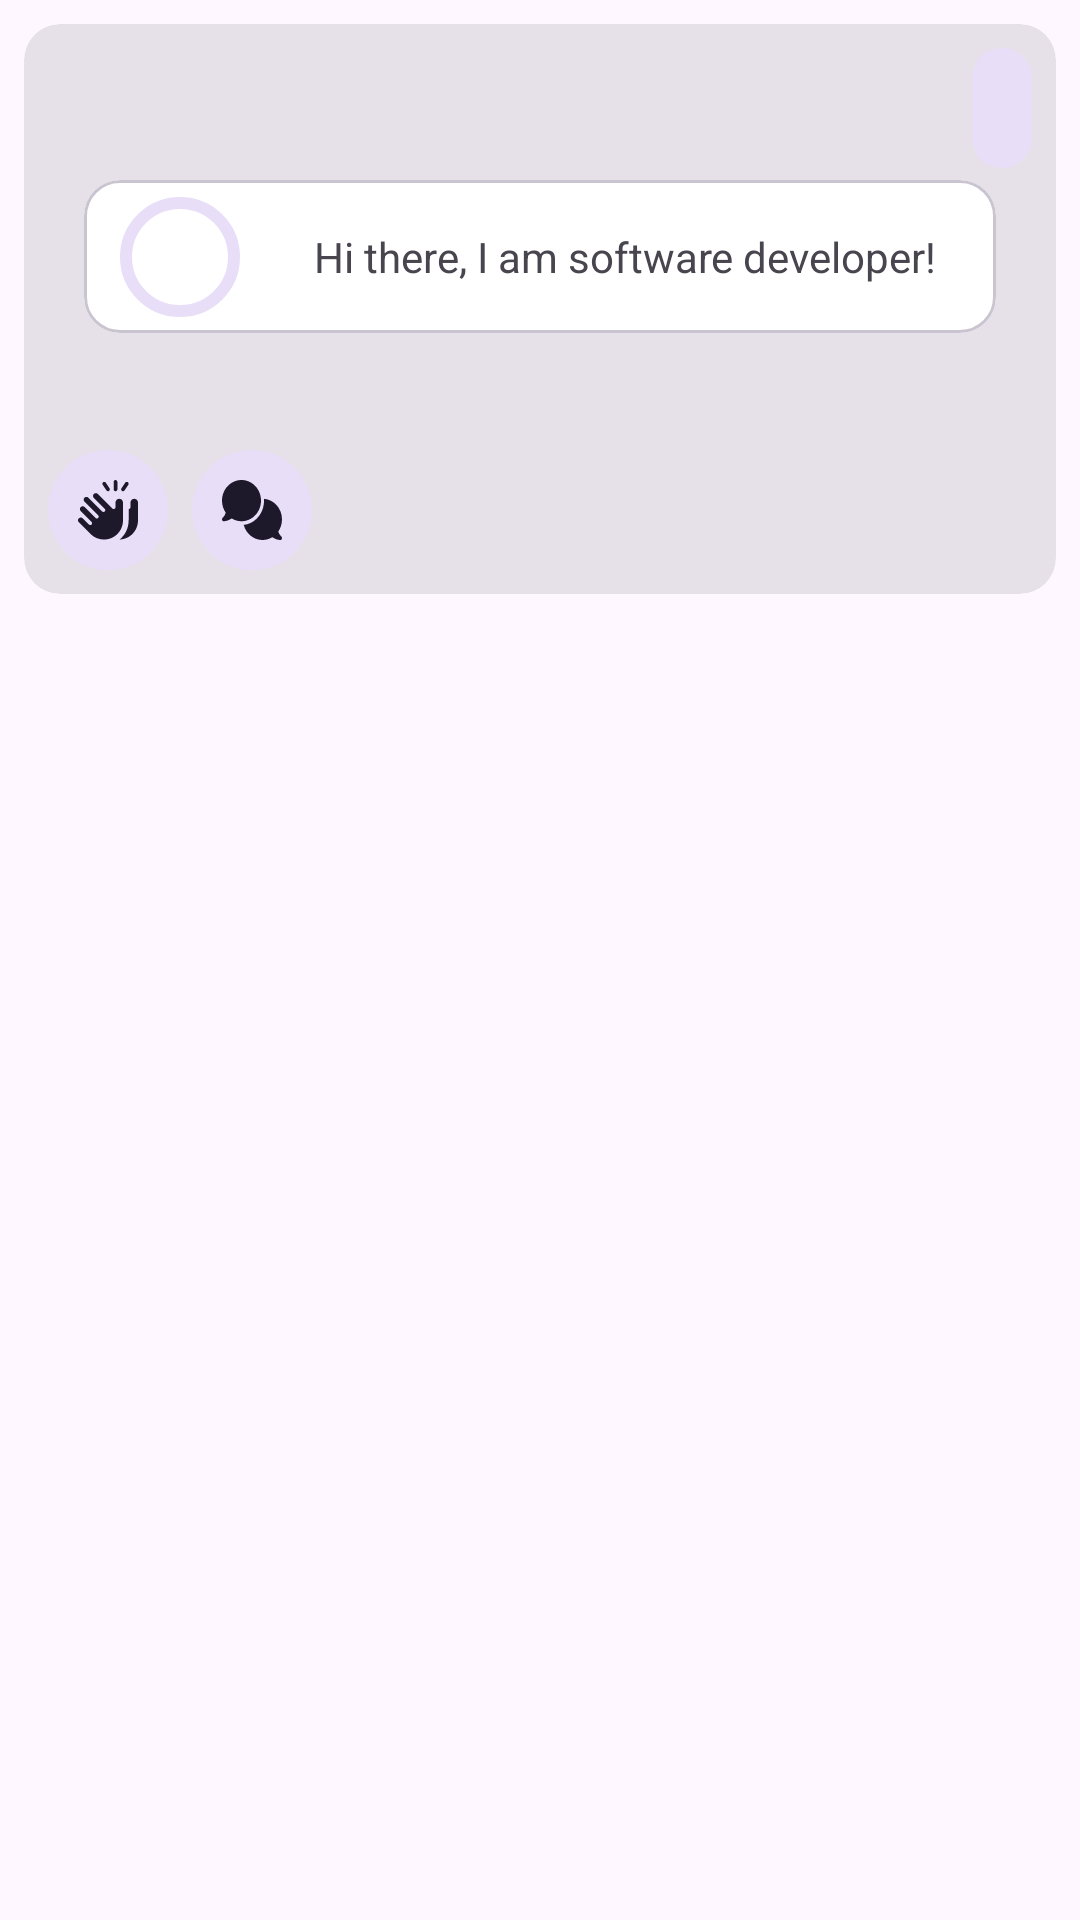

Icon click points for this 1080*1920 phone screenshot, format (x=x, y=y):
comments: (x=252, y=510)
hands clapping: (x=108, y=510)
